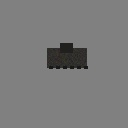armoured_vehicle: (47, 48, 87, 68)
